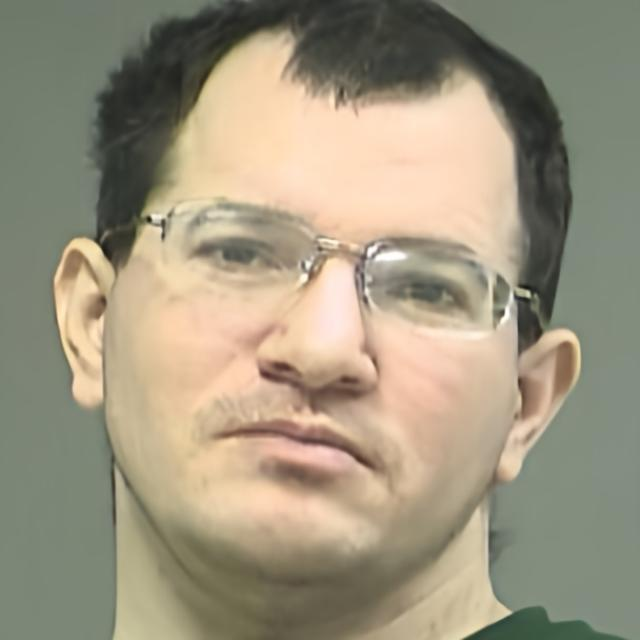neutral: (110, 83, 518, 580)
